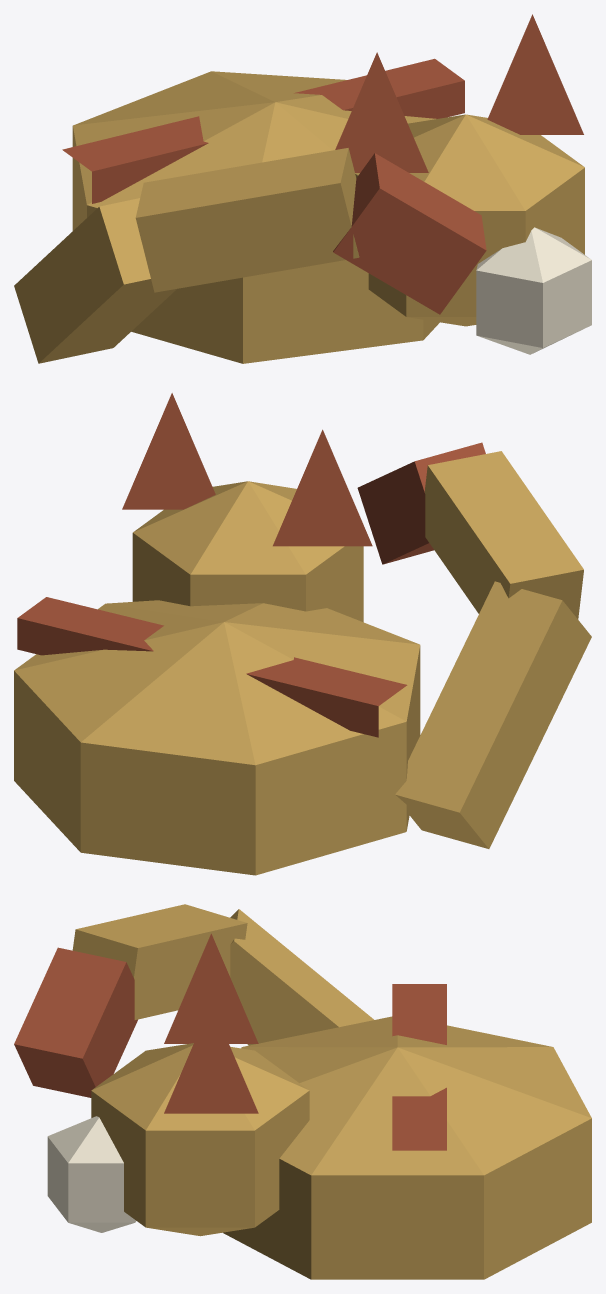
The model's file is animal-cat.glb.
The picture shows the model from 3 angles, top to bottom: view 1: azimuth 30°, elevation 25°; view 2: azimuth 150°, elevation 25°; view 3: azimuth 270°, elevation 25°; orthographic projection. The views are drawn at different scales.
Parts seen in each view (by area): view 1: animal-cat; view 2: animal-cat; view 3: animal-cat.
Boxes of the visible parts, bbox=[...] form: animal-cat: bbox=[14, 14, 591, 363]; animal-cat: bbox=[14, 393, 591, 875]; animal-cat: bbox=[14, 904, 591, 1279].
Size of the model in its own units: 0.4364 by 0.325 by 0.5273.
Materials: 1 (1 with a texture image).
